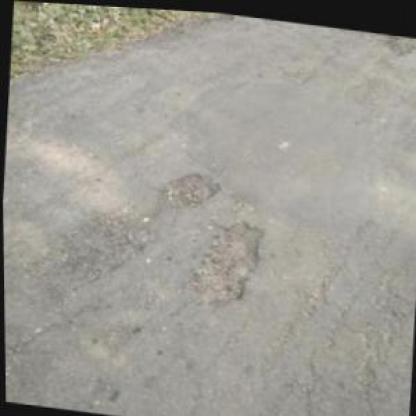pothole: (36, 194, 154, 289), (187, 211, 266, 313), (156, 166, 224, 216)
